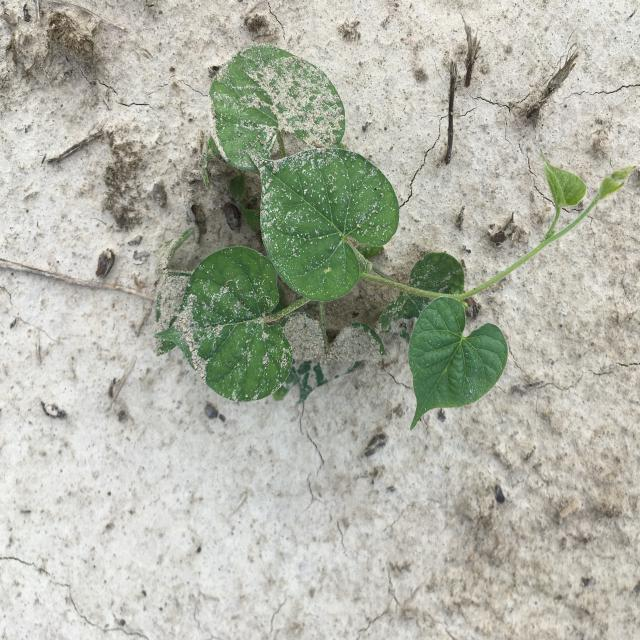MorningGlory: (154, 44, 638, 432)
